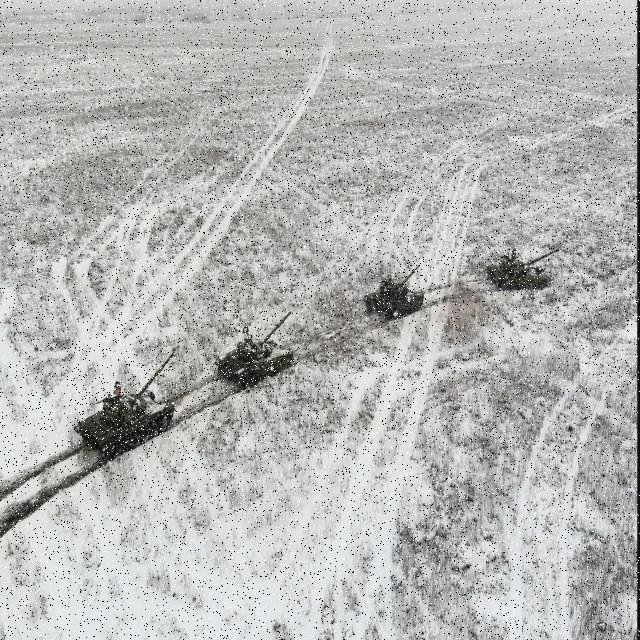MIL_MBT: (72, 347, 178, 467), (211, 306, 295, 393), (362, 259, 430, 323), (484, 244, 564, 294)
